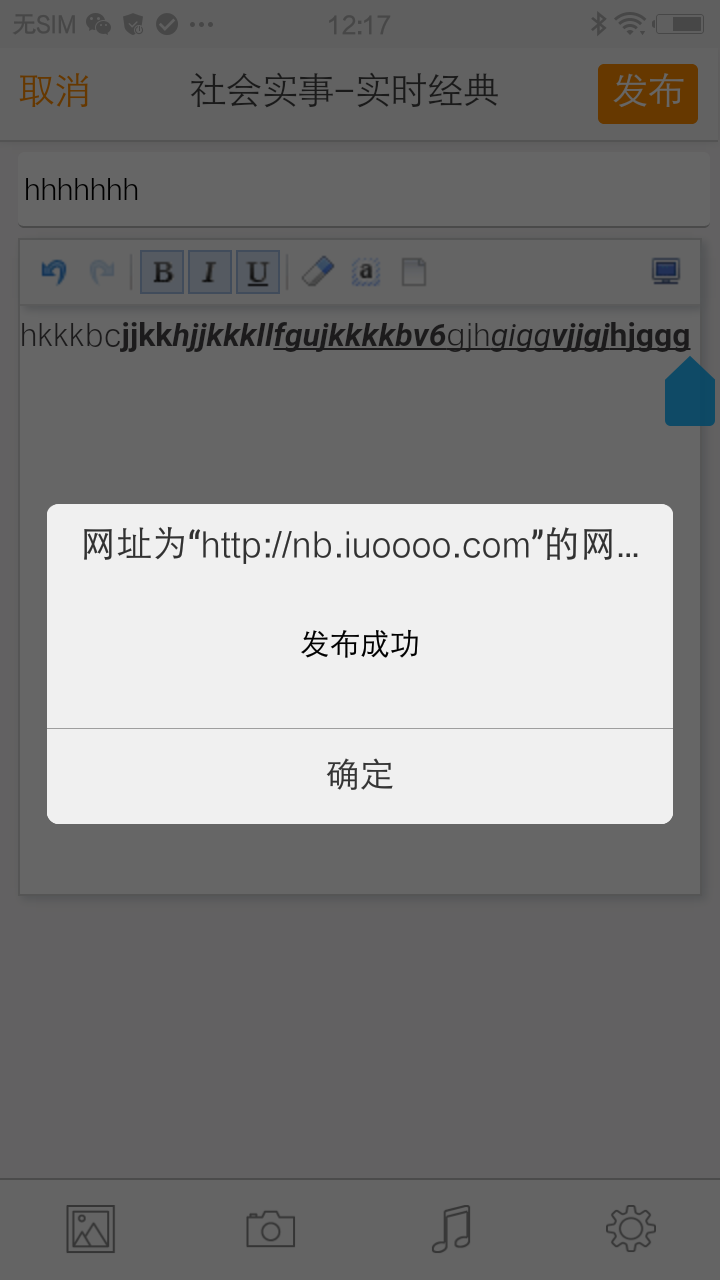alert: (32, 487, 697, 846)
button: (589, 66, 708, 128)
nav: (28, 1185, 708, 1276)
